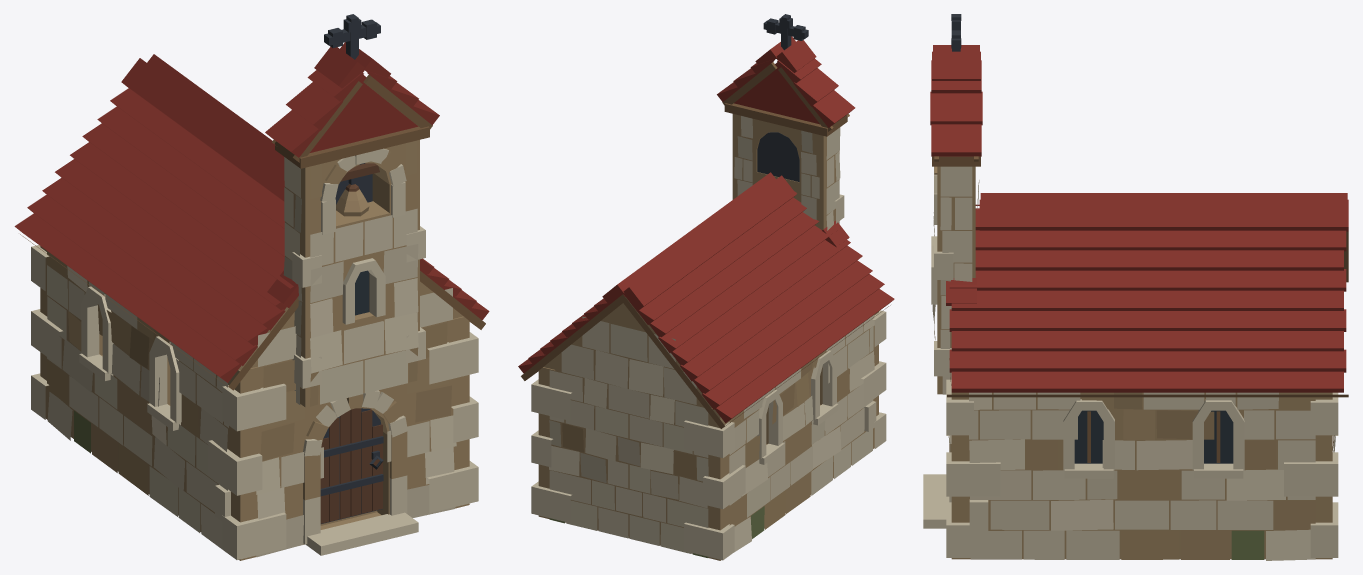
File: stone-chapel-03e774.glb
The picture shows the model from 3 angles, left to right: view 1: azimuth 30°, elevation 25°; view 2: azimuth 150°, elevation 25°; view 3: azimuth 270°, elevation 25°; orthographic projection. The views are drawn at different scales.
Parts seen in each view (by area): view 1: chapel-shell, door-mesh, bell-mesh; view 2: chapel-shell; view 3: chapel-shell.
Part boxes in pixels (box(x1,y1,x2,y2)): chapel-shell: box(14, 14, 489, 560); door-mesh: box(320, 408, 383, 523); bell-mesh: box(336, 178, 369, 216); chapel-shell: box(518, 14, 894, 560); chapel-shell: box(923, 14, 1348, 560).
Size of the model in its own units: 4.47 by 8.15 by 6.41.
